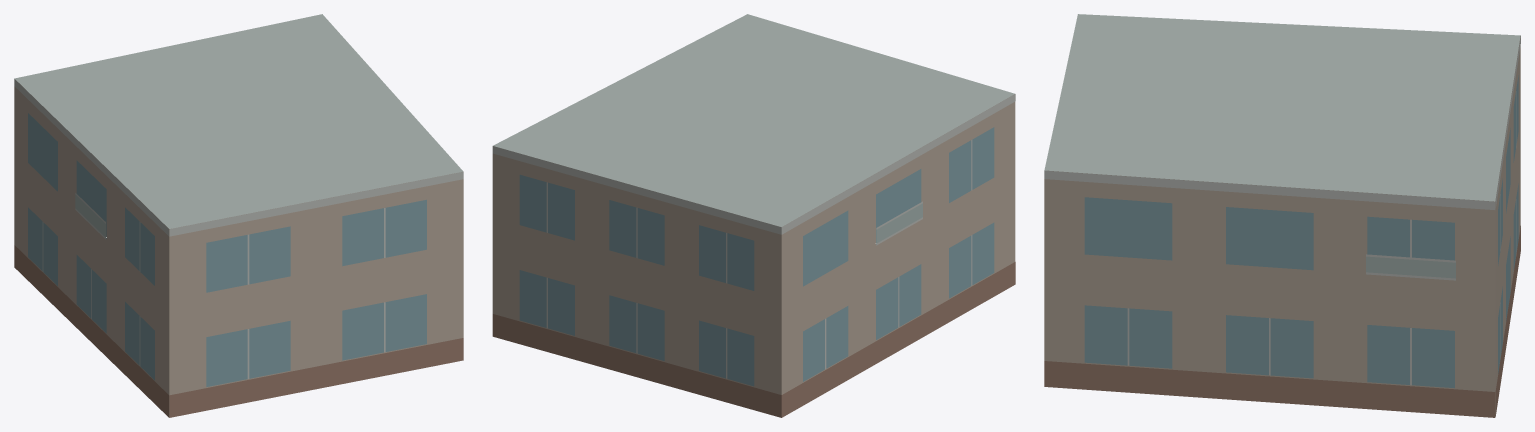
Rendered from survey-upis-32814917.glb.
3 renders of one model, left to right at view 1: azimuth 30°, elevation 25°; view 2: azimuth 150°, elevation 25°; view 3: azimuth 270°, elevation 25°, orthographic. The views are drawn at different scales.
Parts seen in each view (by area): view 1: survey-upis-32814917.tmp; view 2: survey-upis-32814917.tmp; view 3: survey-upis-32814917.tmp.
Part boxes in pixels (x1=…): survey-upis-32814917.tmp: x1=14, y1=14, x2=463, y2=417; survey-upis-32814917.tmp: x1=492, y1=14, x2=1015, y2=417; survey-upis-32814917.tmp: x1=1044, y1=14, x2=1520, y2=417.
Size of the model in its own units: 11.35 by 6.1 by 12.18.
